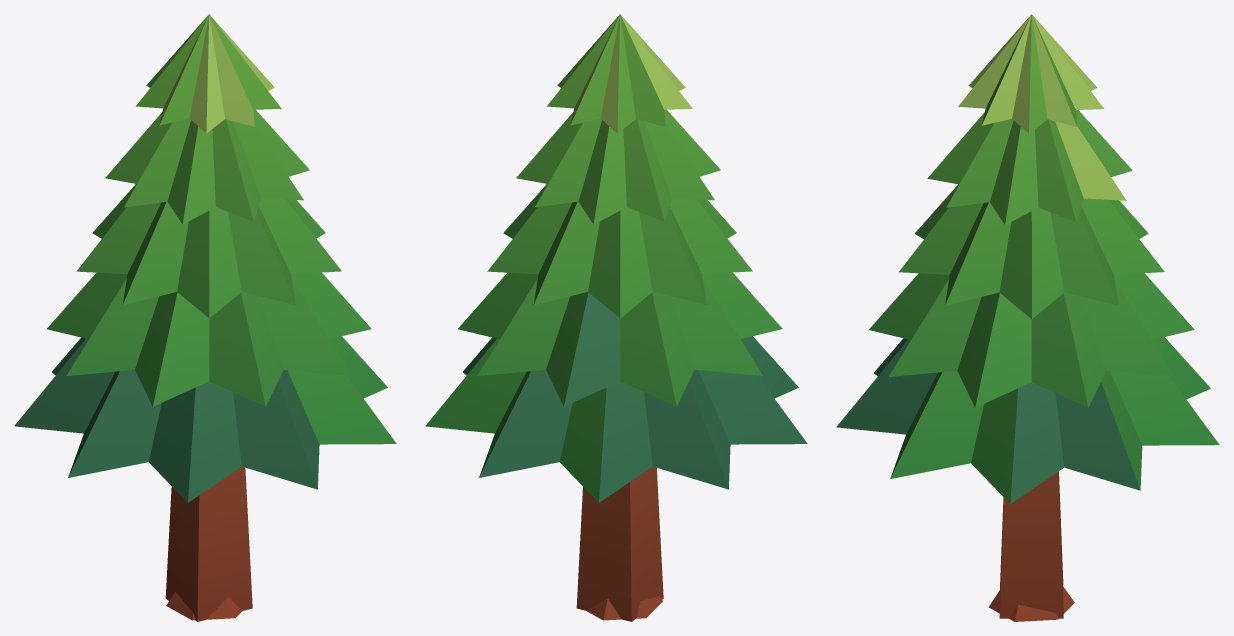
The model's file is pine_tree_a.gltf.
The picture shows the model from 3 angles, left to right: view 1: azimuth 30°, elevation 25°; view 2: azimuth 150°, elevation 25°; view 3: azimuth 270°, elevation 25°; orthographic projection.
Parts seen in each view (by area): view 1: pine_tree_a; view 2: pine_tree_a; view 3: pine_tree_a.
Part boxes in pixels (<box>): pine_tree_a: <box>14,14,396,621</box>; pine_tree_a: <box>425,14,807,621</box>; pine_tree_a: <box>836,14,1219,621</box>.
Bounding box in the file's own units: 2.65 × 4.49 × 2.64.
Materials: 1 (1 with a texture image).
